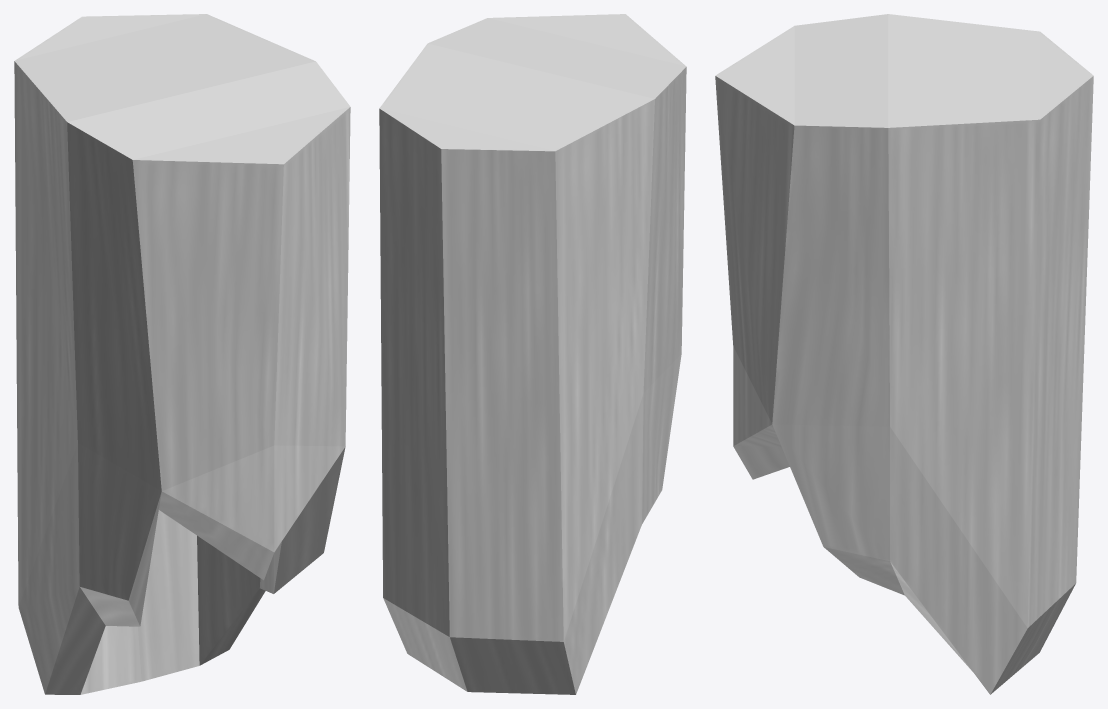
Rendered from slim_jim.glb.
The picture shows the model from 3 angles, left to right: view 1: azimuth 30°, elevation 25°; view 2: azimuth 150°, elevation 25°; view 3: azimuth 270°, elevation 25°; orthographic projection. The views are drawn at different scales.
Visible parts, largest first — view 1: Slim Jim; view 2: Slim Jim; view 3: Slim Jim.
Boxes of the visible parts, bbox=[...] form: Slim Jim: bbox=[14, 14, 350, 694]; Slim Jim: bbox=[379, 14, 686, 694]; Slim Jim: bbox=[715, 14, 1093, 694].
Size of the model in its own units: 0.183 by 0.4402 by 0.2571.
Materials: 1 (1 with a texture image).
